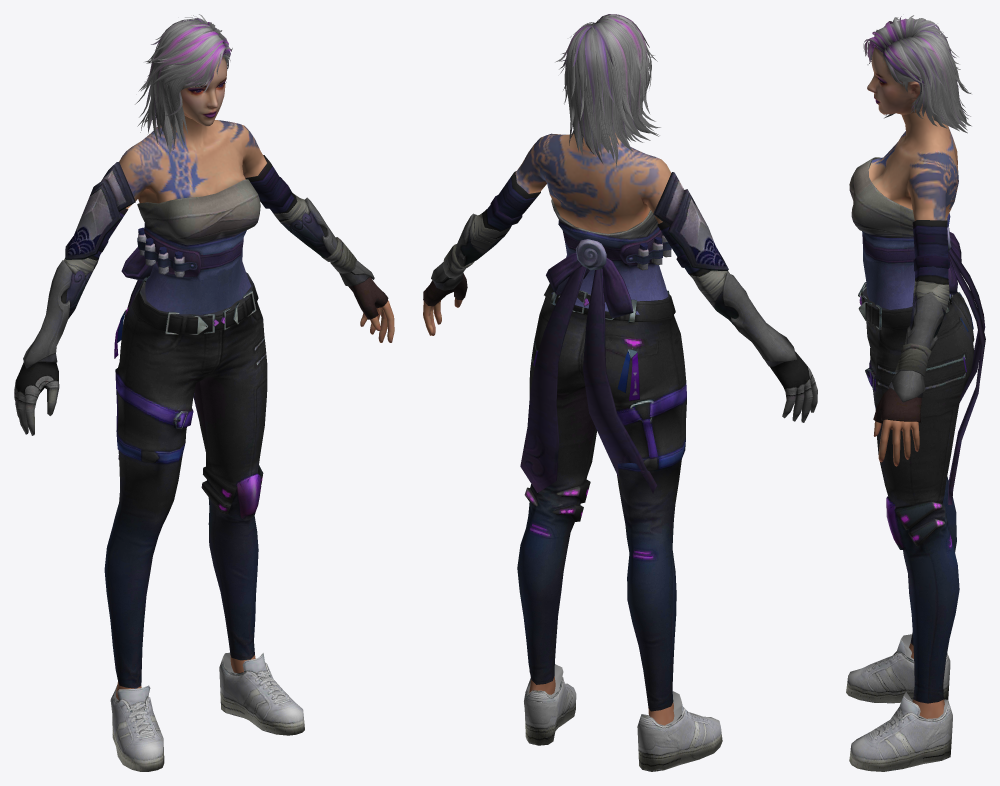
The model's file is free_fire_new_female_3d_model_by_pace_gaming.glb.
The picture shows the model from 3 angles, left to right: view 1: azimuth 30°, elevation 25°; view 2: azimuth 150°, elevation 25°; view 3: azimuth 270°, elevation 25°; orthographic projection. The views are drawn at different scales.
Visible parts, largest first — view 1: Object_4, Object_5, Object_2, Object_3, Object_6; view 2: Object_4, Object_5, Object_2, Object_6, Object_3; view 3: Object_4, Object_5, Object_2, Object_3, Object_6.
Part boxes in pixels (left/top/right/bottom): Object_4: left=104, top=272, right=267, bottom=688; Object_5: left=14, top=155, right=388, bottom=459; Object_2: left=116, top=56, right=394, bottom=700; Object_3: left=110, top=652, right=304, bottom=771; Object_6: left=135, top=14, right=232, bottom=155; Object_4: left=517, top=283, right=686, bottom=711; Object_5: left=423, top=171, right=817, bottom=493; Object_2: left=423, top=133, right=674, bottom=725; Object_6: left=555, top=14, right=660, bottom=167; Object_3: left=524, top=664, right=722, bottom=771; Object_4: left=858, top=282, right=974, bottom=703; Object_5: left=849, top=157, right=985, bottom=504; Object_2: left=867, top=46, right=958, bottom=718; Object_3: left=846, top=634, right=952, bottom=771; Object_6: left=863, top=15, right=971, bottom=133.
Bounding box in the file's own units: 3.08 × 5.59 × 0.9945.
5 materials, 5 textured.
